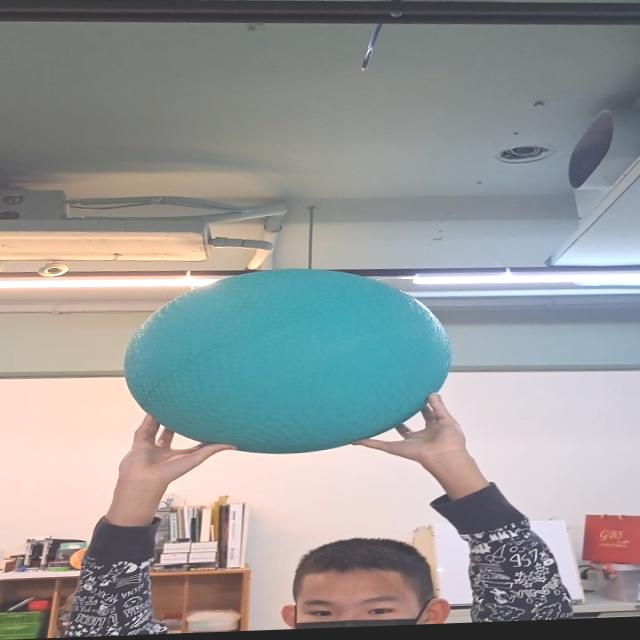ALGAE: (126, 263, 453, 459)
